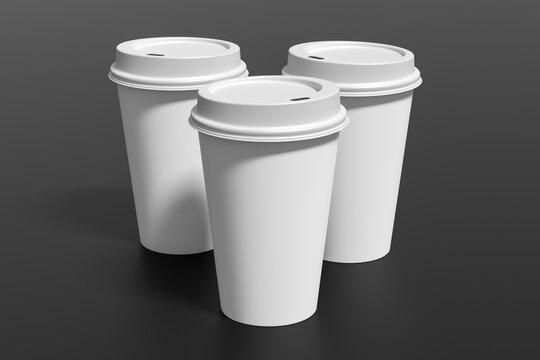cup-disposable: (187, 72, 351, 329), (280, 36, 424, 265), (106, 32, 250, 258)
